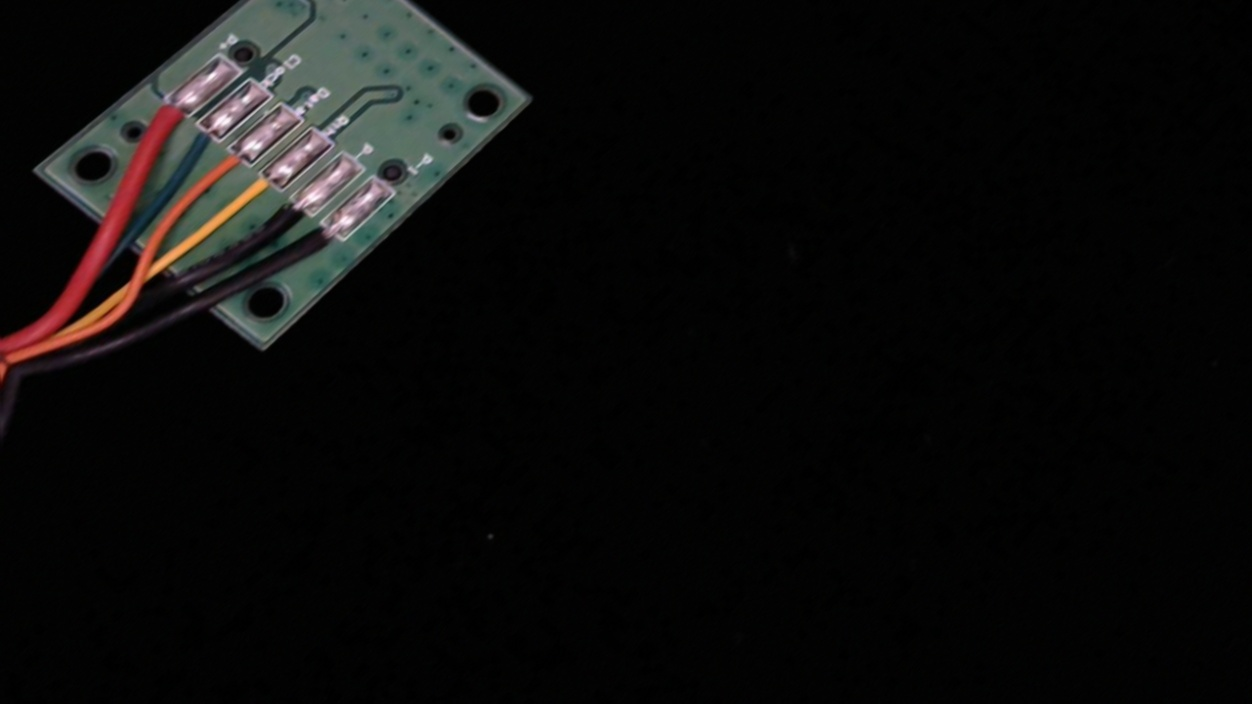Black: (245, 185, 328, 253)
Black1: (275, 209, 364, 282)
Green: (148, 110, 242, 184)
Orange: (177, 134, 270, 209)
Red: (114, 85, 207, 158)
Yellow: (202, 160, 298, 238)
